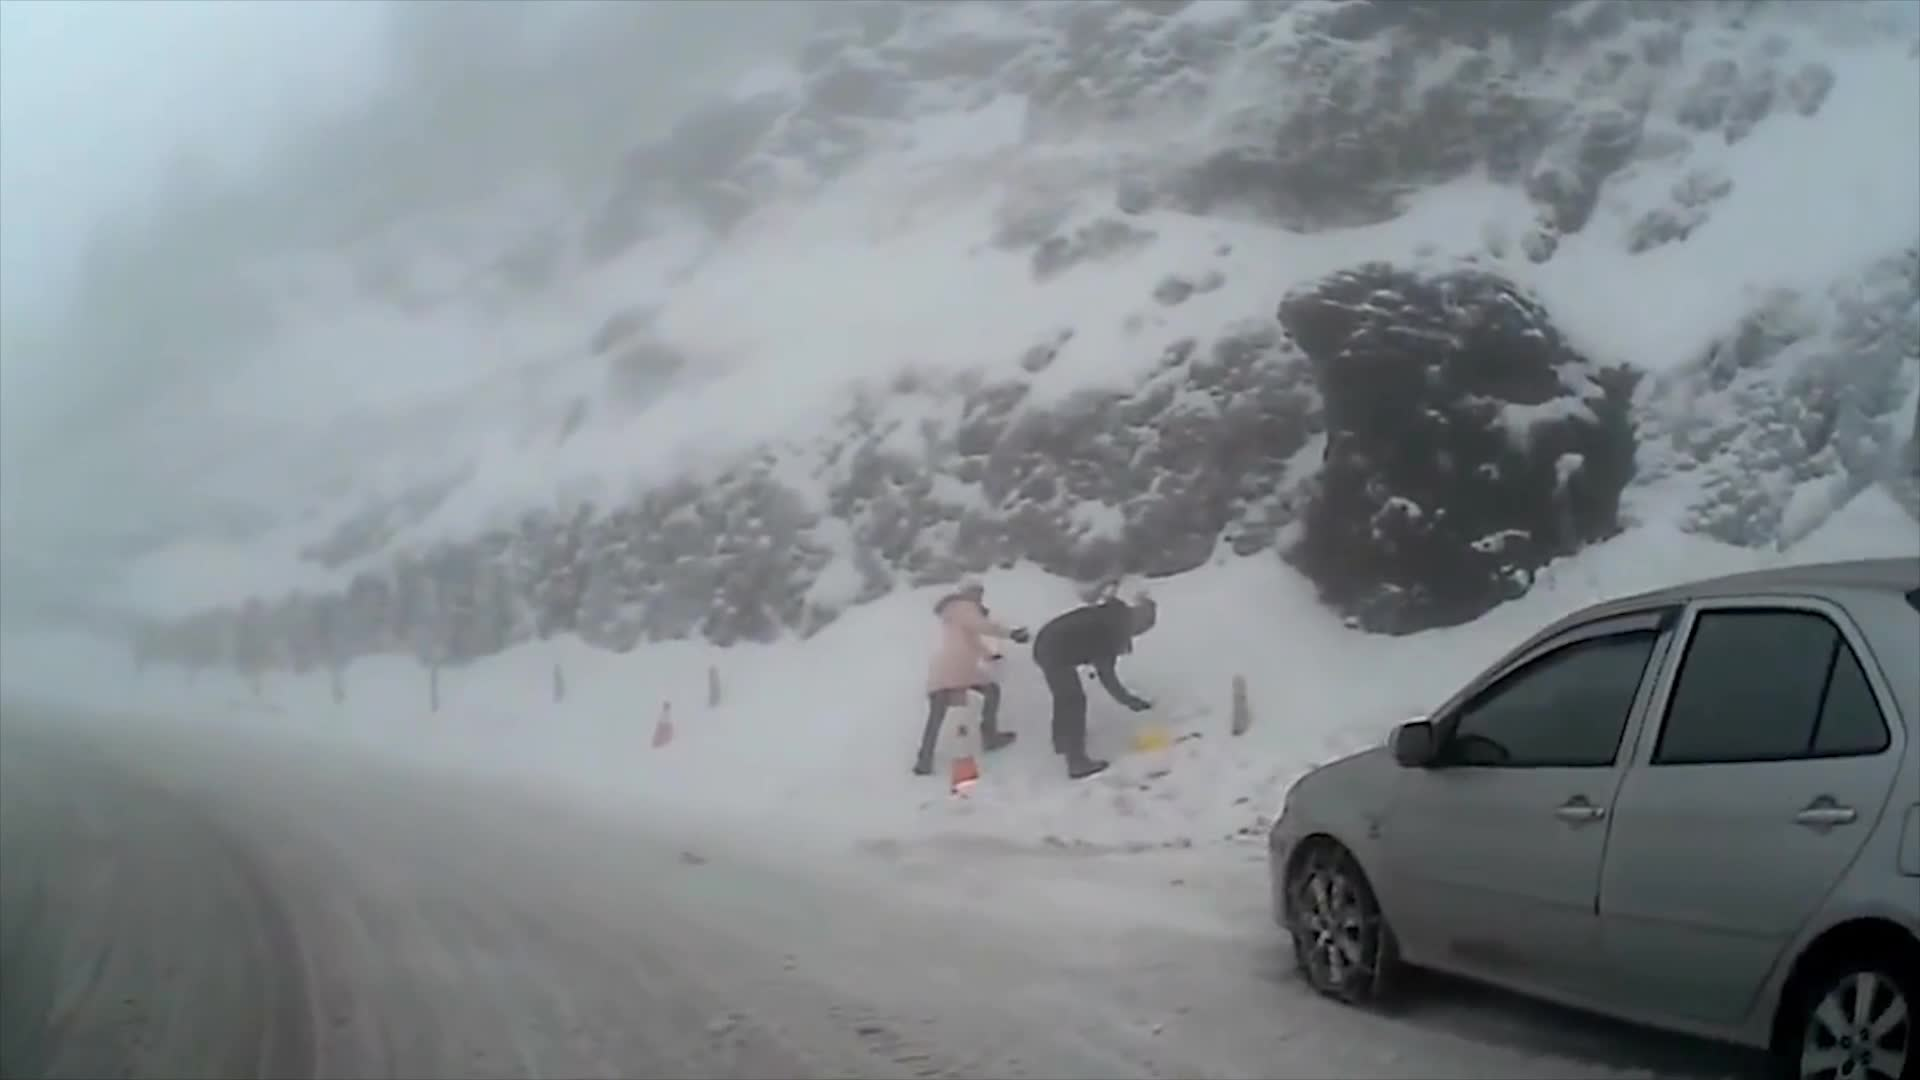pedestrian: (908, 576, 1033, 777), (1030, 597, 1155, 782)
vehicle: (1269, 556, 1920, 1080)
